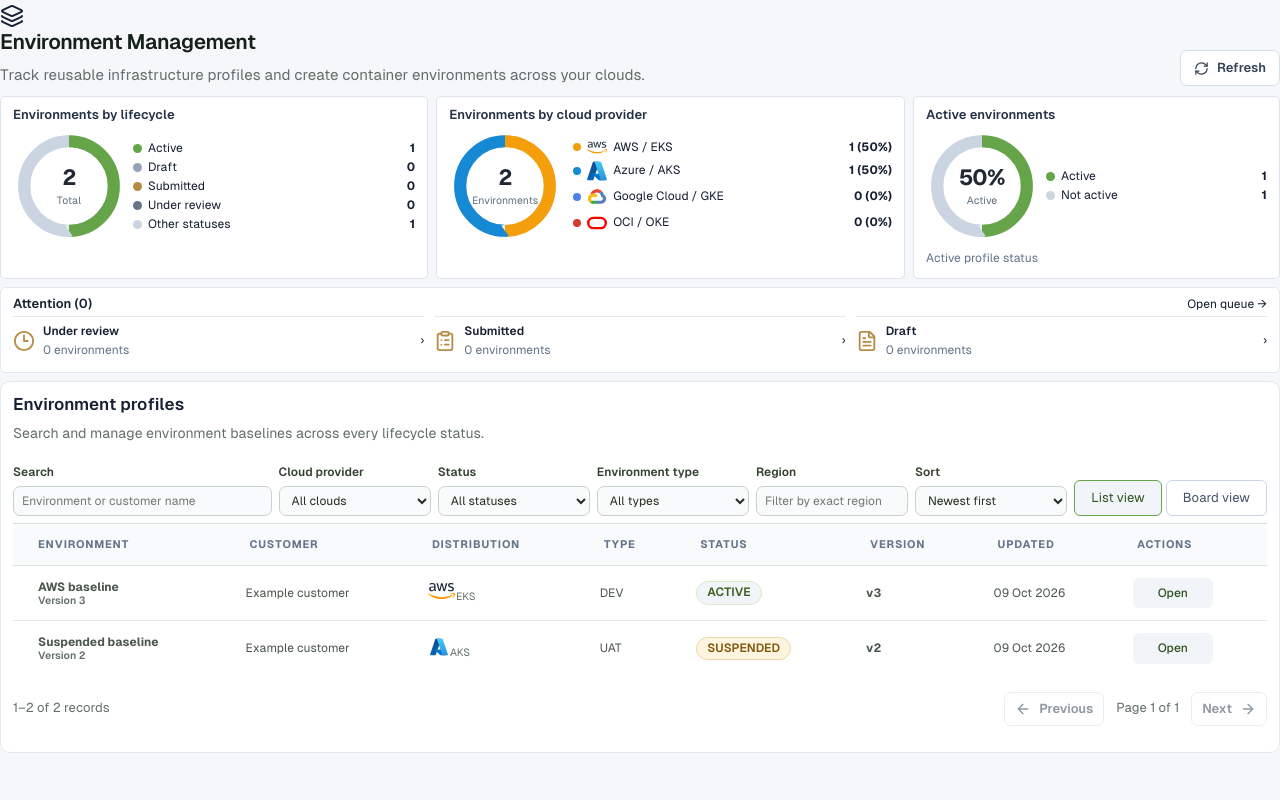
Environment UI preserves existing interactions › keeps filters and record links when switching display modes, including suspended records
This screenshot has width=1280, height=800.
Select "AZURE" in the dropdown labelled "Cloud provider" at (355, 501), box [279,486,431,516]
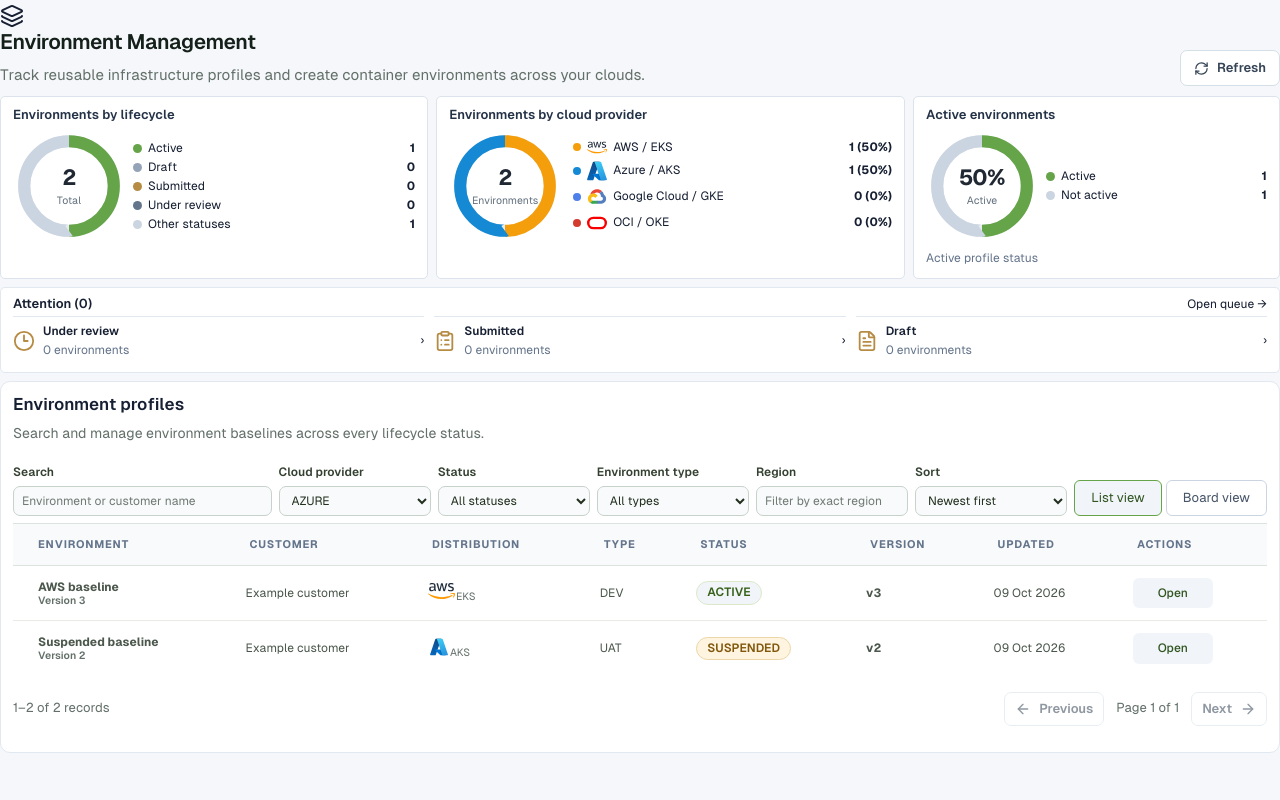
Click the button "Board view".
click(1216, 498)  # box [1166,480,1267,516]
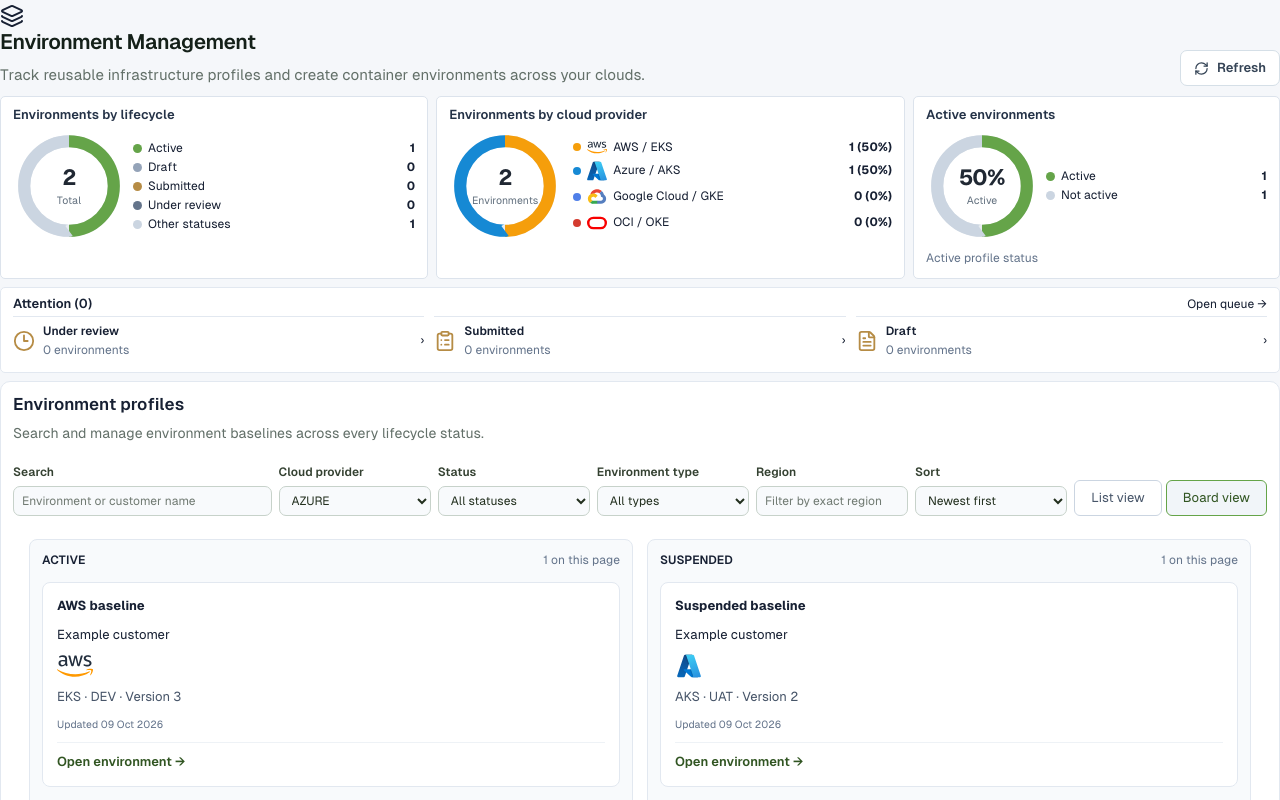
Now the table is gone
Now the text "1 on this page" is shown 2 times, box [543,552,620,570]; [1161,552,1238,570]
Click the button "List view".
click(1118, 498)  # box [1074,480,1162,516]
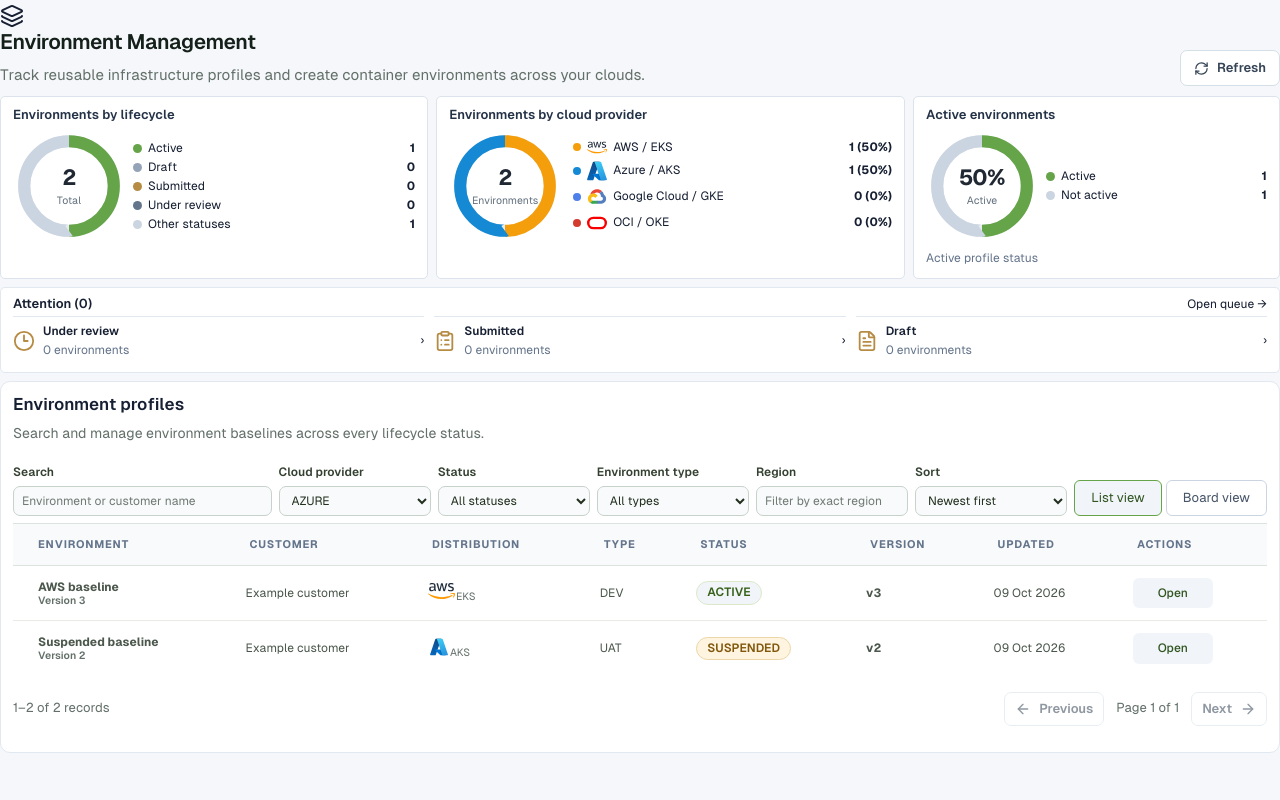
Now the table is shown, box [13,523,1267,676]
